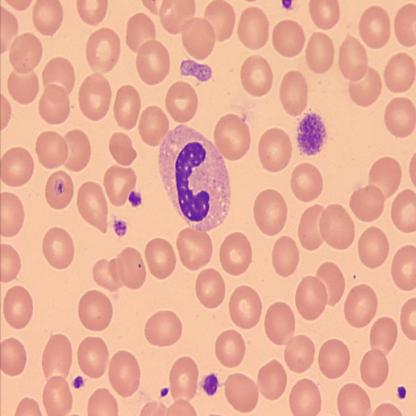Band Neutrophil: (157, 122, 232, 233)
